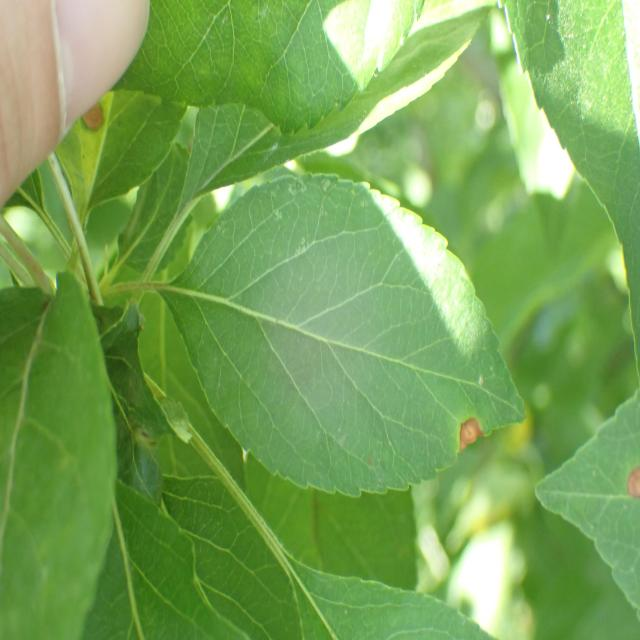Black Rot: (62, 101, 117, 151), (449, 404, 492, 465), (613, 460, 640, 517)
